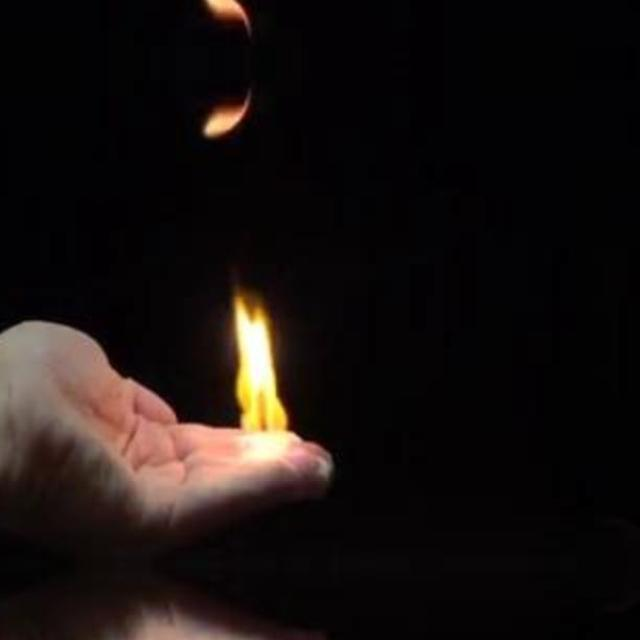smoke: (226, 284, 295, 480)
